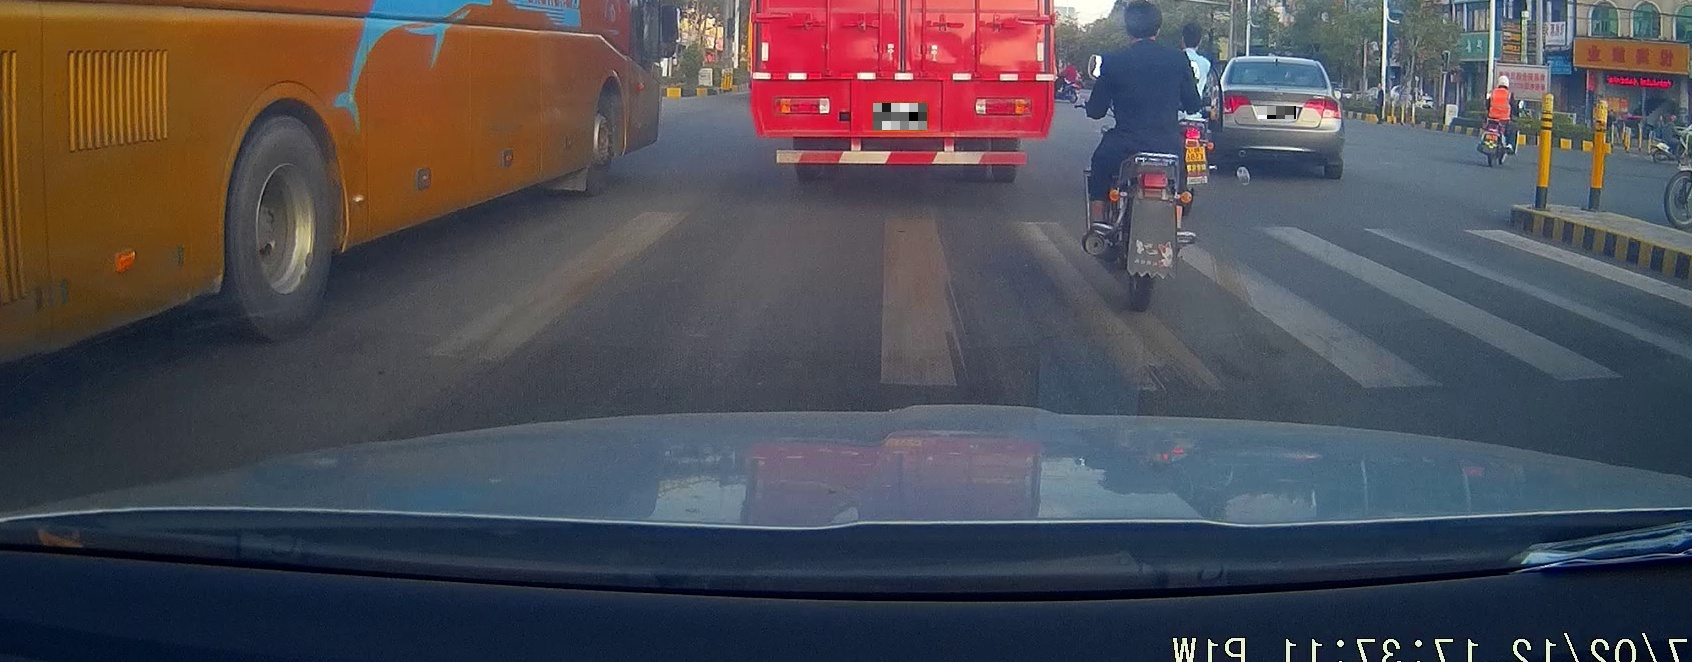L_light: (1222, 94, 1251, 114)
R_light: (1302, 98, 1341, 119)
T_light: (1269, 62, 1285, 68)
day-right: (1220, 57, 1343, 179)
plate_1: (873, 103, 927, 130)
plate_2: (1258, 106, 1296, 119)
